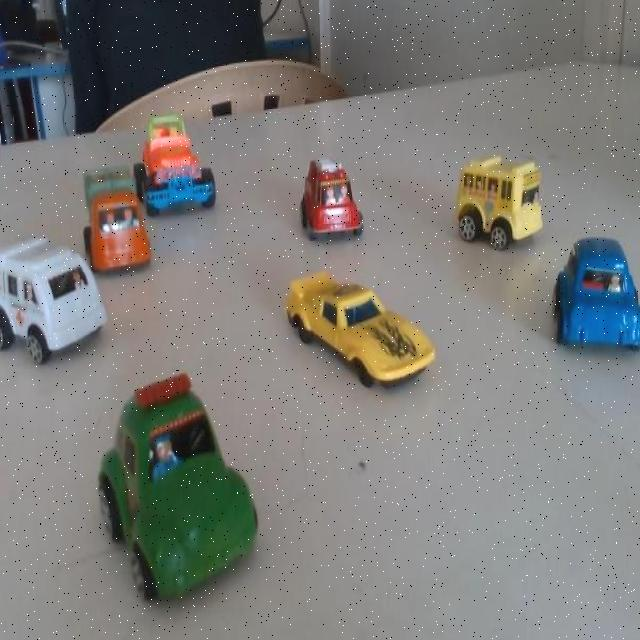car: (82, 379, 257, 590), (279, 258, 436, 402), (0, 219, 110, 383), (552, 233, 640, 360), (446, 151, 540, 260), (140, 105, 225, 211), (79, 154, 150, 278), (289, 147, 363, 253)
